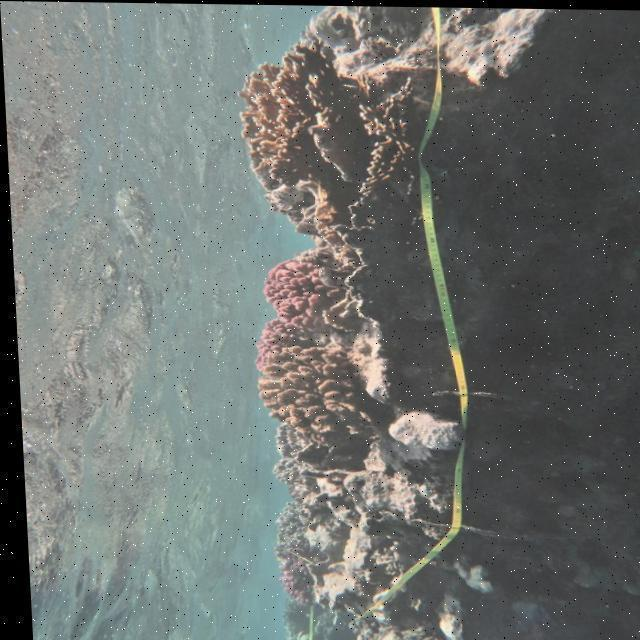Healthy Coral: (235, 46, 365, 203), (258, 321, 378, 460), (258, 247, 344, 340), (259, 541, 326, 614)
